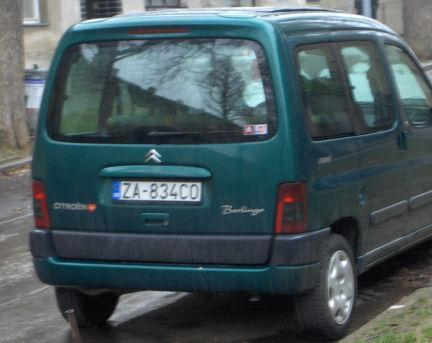placa de veiculo: (103, 173, 215, 216)
